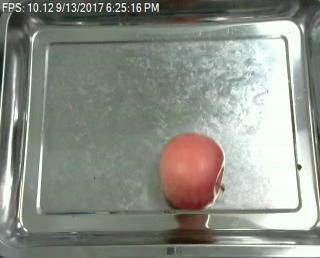apple: (159, 134, 225, 210)
